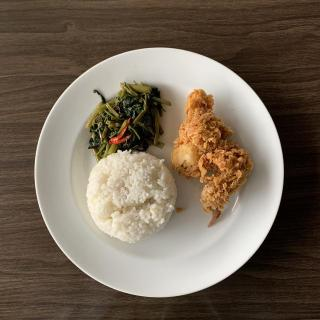Nasi: (90, 154, 180, 246)
